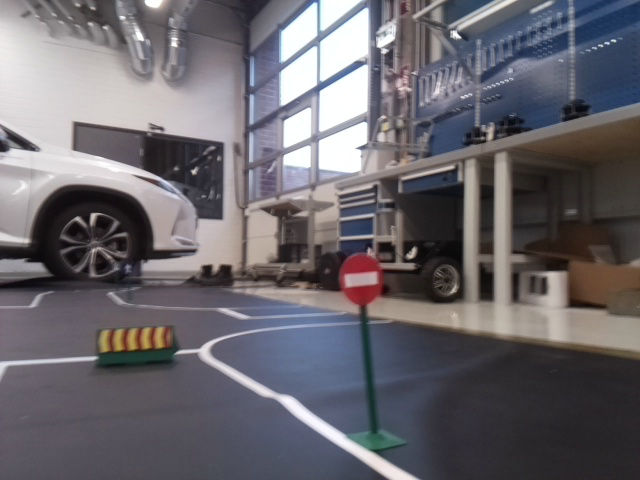ClosedRoadStand: (94, 325, 177, 349)
NoEntry: (333, 251, 387, 303)
